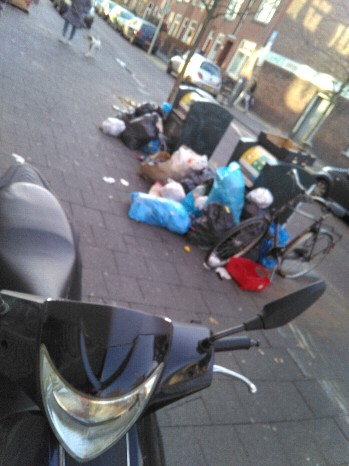Container: (244, 136, 299, 200), (174, 81, 214, 152)
Rest: (201, 182, 242, 259), (156, 147, 217, 198), (137, 188, 184, 239), (128, 109, 161, 155), (217, 166, 242, 224), (110, 106, 135, 138), (145, 94, 165, 122)
Voertuig: (6, 151, 179, 466), (240, 194, 339, 293)
